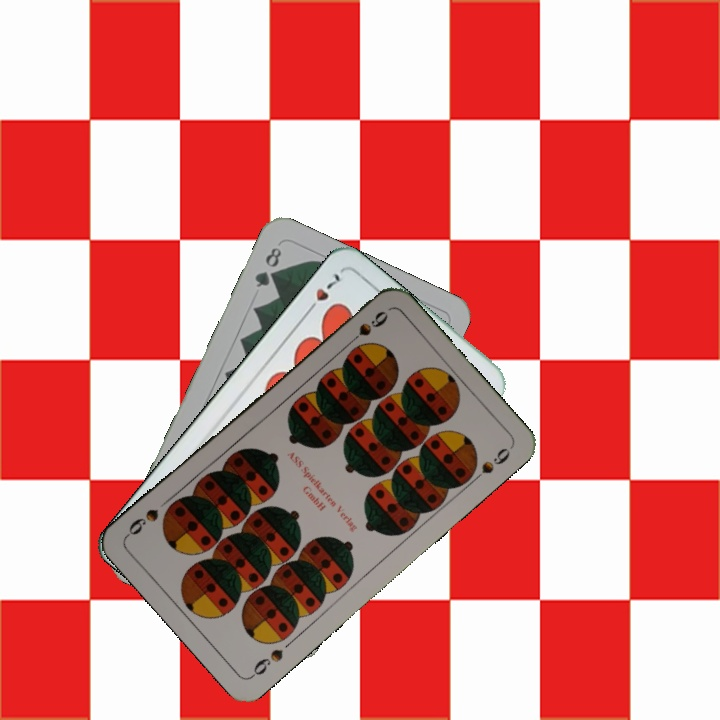G8: (250, 243, 284, 290)
H7: (301, 268, 346, 317)
S9: (342, 306, 391, 350), (247, 645, 286, 680)
